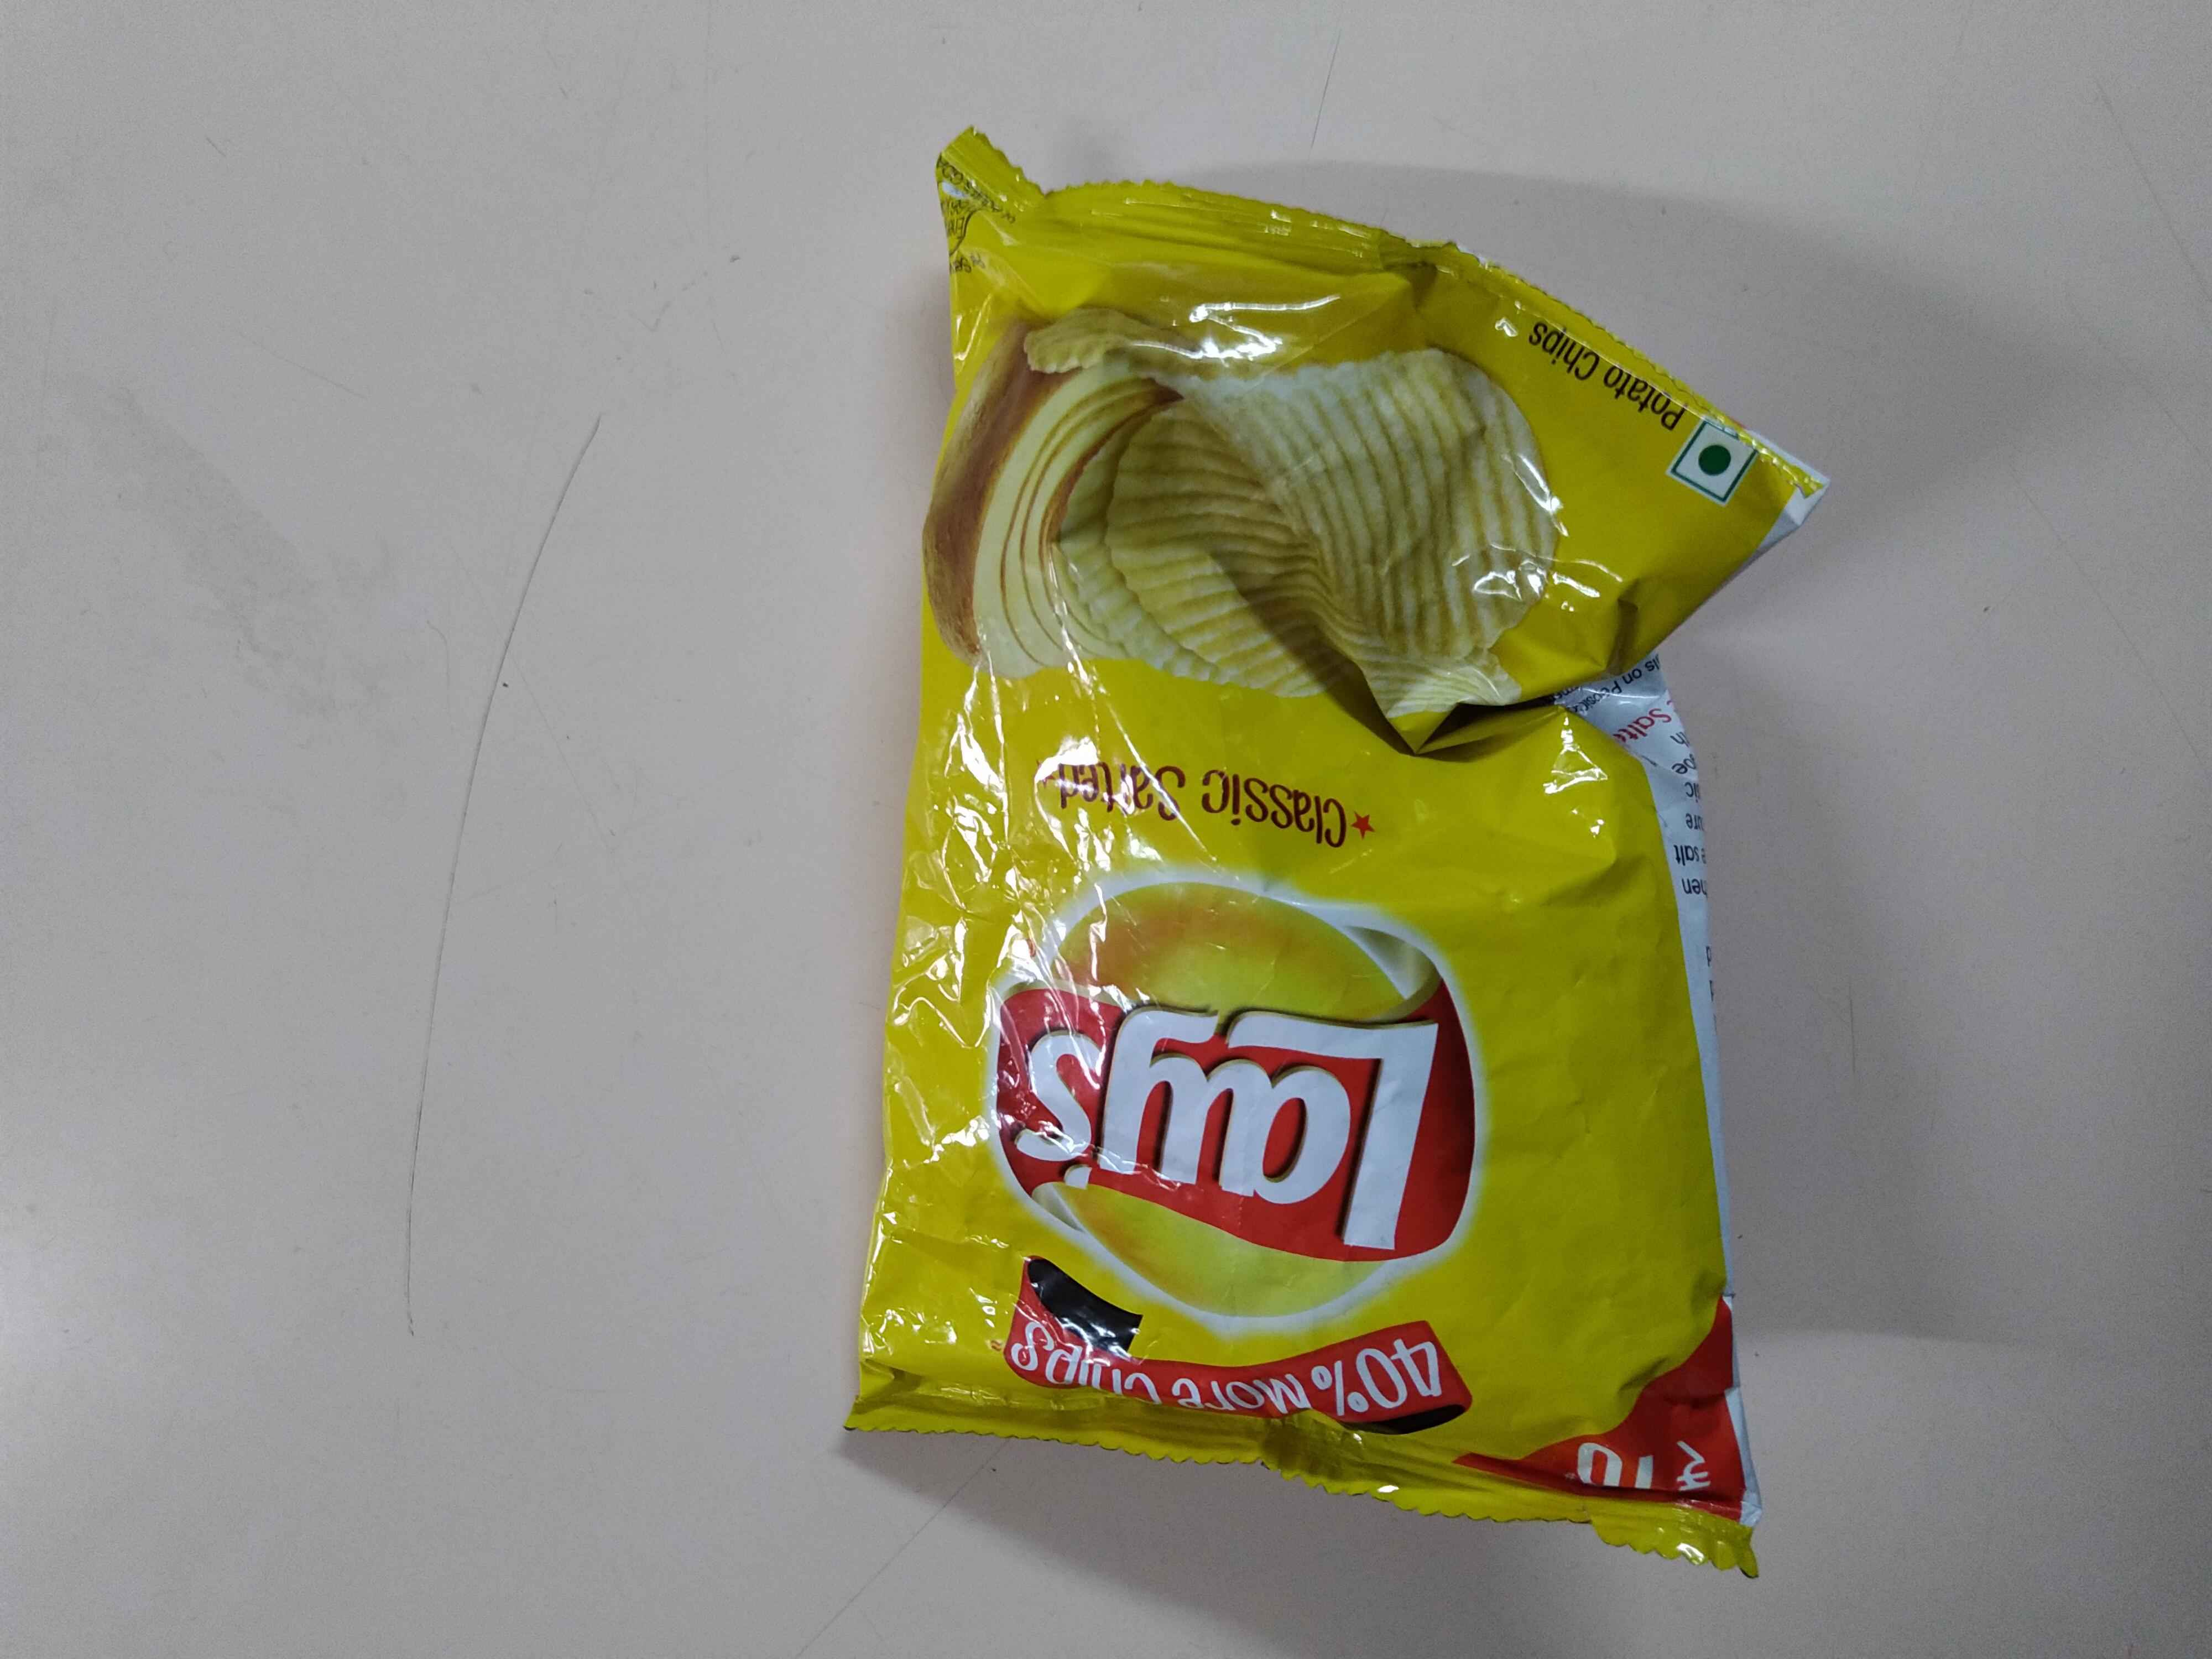Lays: (972, 843, 1480, 1349)
